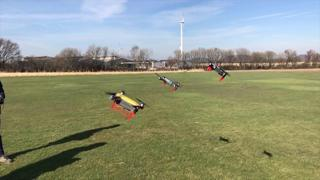UAV: (103, 89, 149, 120), (207, 59, 231, 82), (155, 73, 184, 92)
